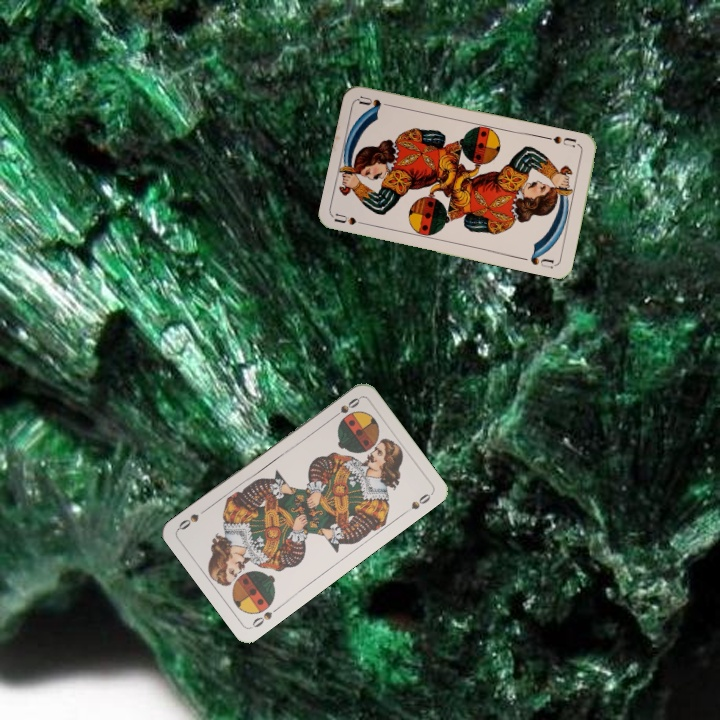SO: (327, 393, 362, 422), (248, 602, 283, 630)
SU: (331, 210, 372, 228), (542, 132, 578, 149)
